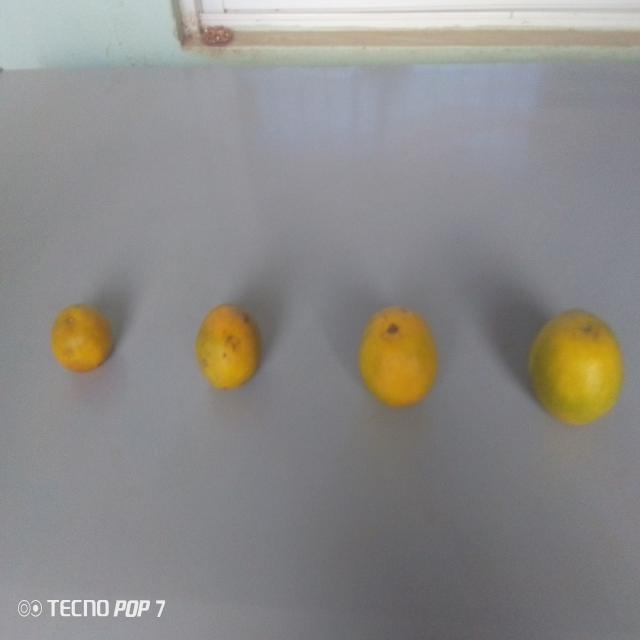agrume: (523, 303, 629, 441), (355, 304, 443, 419), (174, 294, 266, 403), (44, 295, 116, 383)
